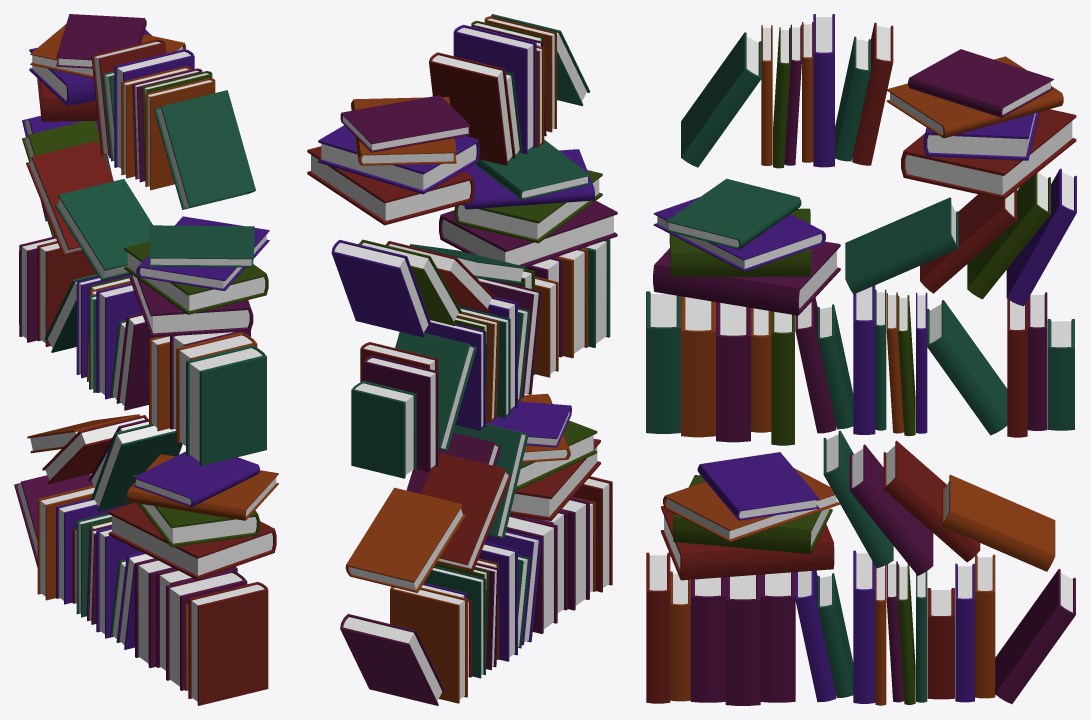
The model's file is BOOKS1.glb.
3 views of the same model, side by side, from view 1: azimuth 30°, elevation 25°; view 2: azimuth 150°, elevation 25°; view 3: azimuth 270°, elevation 25° (orthographic). The views are drawn at different scales.
Visible parts, largest first — view 1: Cube, Cube.033, Cube.065, Cube.053, Cube.021, Cube.049, Cube.052, Cube.024, Cube.025, Cube.046, Cube.047, Cube.057 (+40 smaller); view 2: Cube.028, Cube.050, Cube.020, Cube.058, Cube.042, Cube.027, Cube.019, Cube.046, Cube.054, Cube.057, Cube.059, Cube.055 (+42 smaller); view 3: Cube.054, Cube.053, Cube.028, Cube.046, Cube.057, Cube.049, Cube.024, Cube.045, Cube.065, Cube.020, Cube.021, Cube.033 (+48 smaller).
Boxes of the visible parts, x1,y1,x2,y2 form: Cube: (188,582,268,705); Cube.033: (186,345,266,465); Cube.065: (154,90,255,209); Cube.053: (54,179,152,280); Cube.021: (108,502,276,579); Cube.049: (149,225,254,267); Cube.052: (26,141,113,255); Cube.024: (133,451,259,507); Cube.025: (91,424,182,511); Cube.046: (129,275,253,337); Cube.047: (124,241,268,314); Cube.057: (56,14,146,68); Cube.028: (345,487,465,592); Cube.050: (331,239,431,337); Cube.020: (340,614,445,705); Cube.058: (429,52,515,165); Cube.042: (351,381,416,478); Cube.027: (421,452,511,571); Cube.019: (390,586,467,703); Cube.046: (439,201,617,266); Cube.054: (307,146,474,225); Cube.057: (340,95,470,152); Cube.059: (453,25,536,154); Cube.055: (318,125,479,194); Cube.054: (901,109,1076,199); Cube.053: (845,197,958,294); Cube.028: (942,474,1055,571); Cube.046: (653,241,840,315); Cube.057: (908,49,1053,117); Cube.049: (666,178,801,249); Cube.024: (697,452,819,520); Cube.045: (926,300,1007,435); Cube.065: (681,32,761,167); Cube.020: (995,568,1075,703); Cube.021: (661,506,834,580); Cube.033: (646,291,680,433).
Bounding box in the file's own units: 0.5976 × 2.03 × 1.22.
